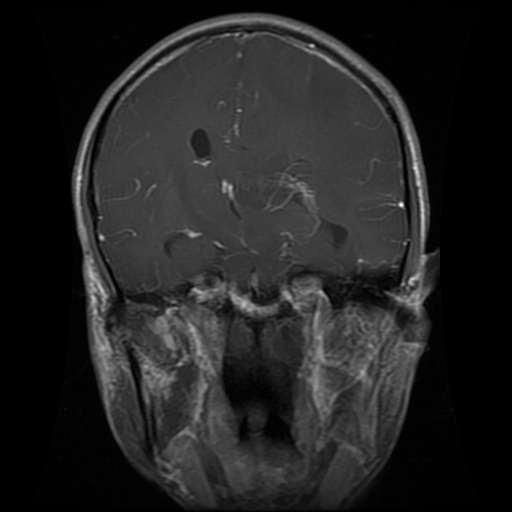glioma: (217, 156, 320, 232)
